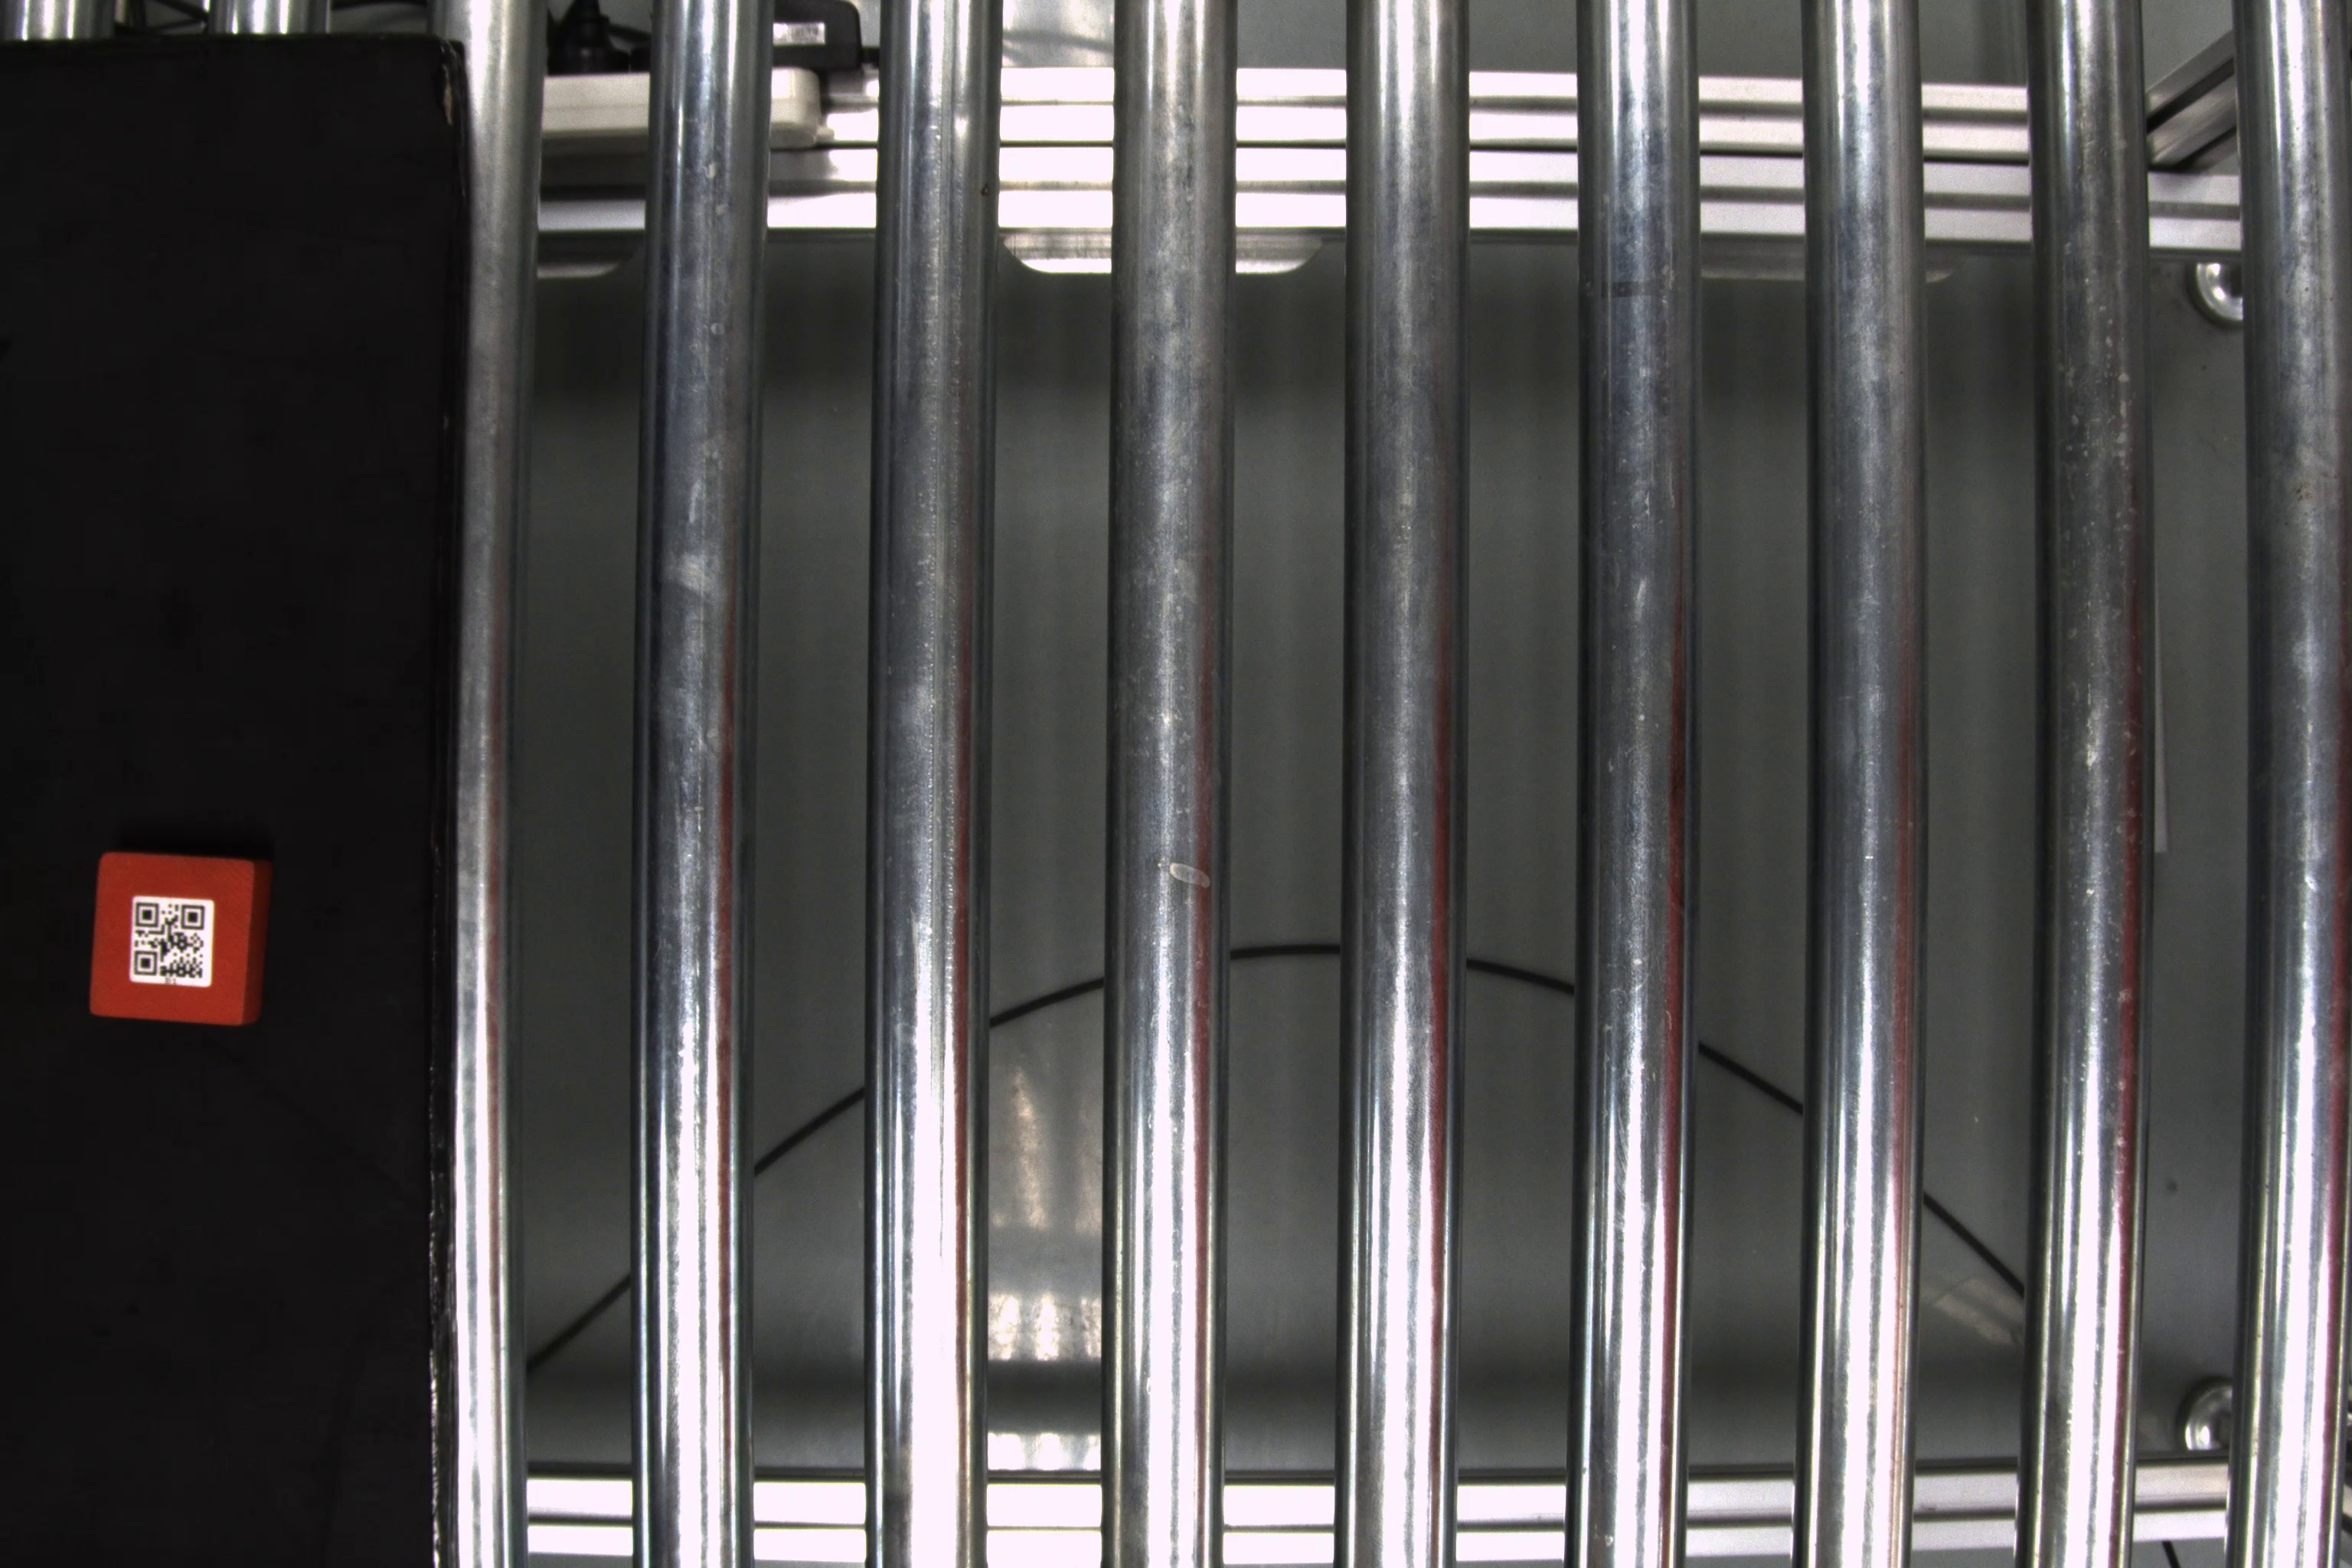wood: (80, 845, 280, 1031)
